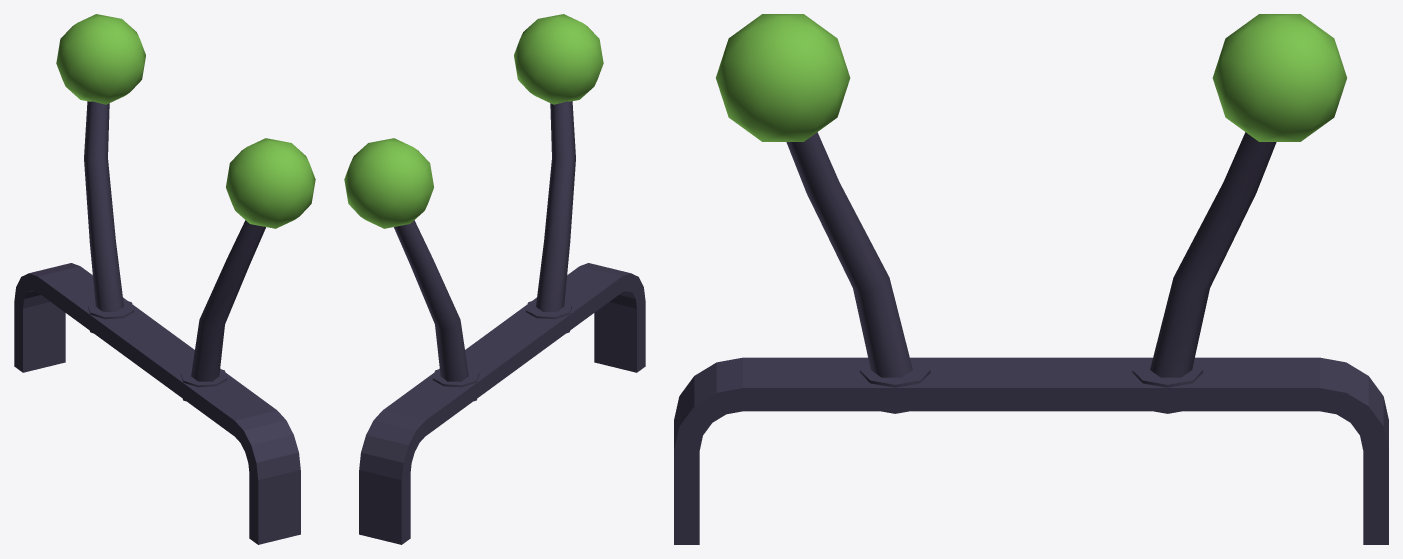
File: antenna.glb
The picture shows the model from 3 angles, left to right: view 1: azimuth 30°, elevation 25°; view 2: azimuth 150°, elevation 25°; view 3: azimuth 270°, elevation 25°; orthographic projection. The views are drawn at different scales.
Visible parts, largest first — view 1: Antennae, Band; view 2: Antennae, Band; view 3: Antennae, Band.
Boxes of the visible parts, <box> form: Antennae: <box>56,14,315,401</box>; Band: <box>14,263,300,544</box>; Antennae: <box>344,14,603,401</box>; Band: <box>359,263,645,544</box>; Antennae: <box>716,14,1346,413</box>; Band: <box>674,357,1388,544</box>.
Bounding box in the file's own units: 0.0924 × 0.367 × 0.446.
